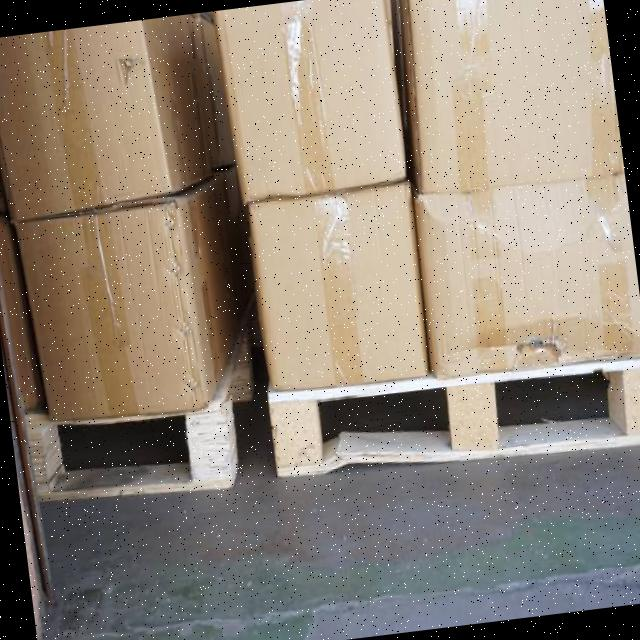Wooden-Pallets: (267, 355, 640, 480), (27, 409, 231, 507)
